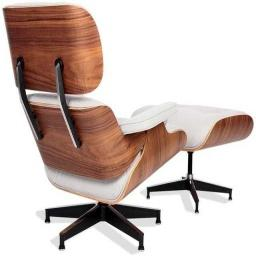Chair: (3, 6, 254, 250)
